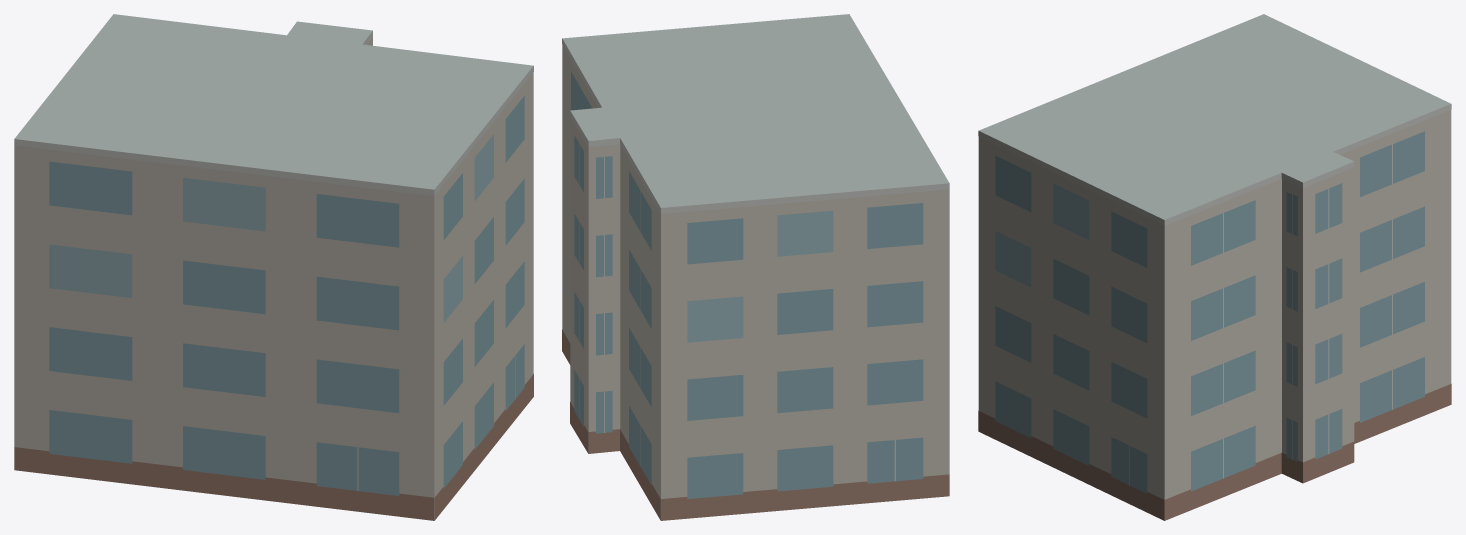
File: survey-upis-32963550.glb
3 views of the same model, side by side, from view 1: azimuth 30°, elevation 25°; view 2: azimuth 150°, elevation 25°; view 3: azimuth 270°, elevation 25° (orthographic). The views are drawn at different scales.
Visible parts, largest first — view 1: survey-upis-32963550.tmp; view 2: survey-upis-32963550.tmp; view 3: survey-upis-32963550.tmp.
Part boxes in pixels (x1,y1,x2,y2): survey-upis-32963550.tmp: (14,14,533,520); survey-upis-32963550.tmp: (562,14,949,520); survey-upis-32963550.tmp: (978,14,1451,520).
Size of the model in its own units: 18.58 by 12.65 by 18.03.
